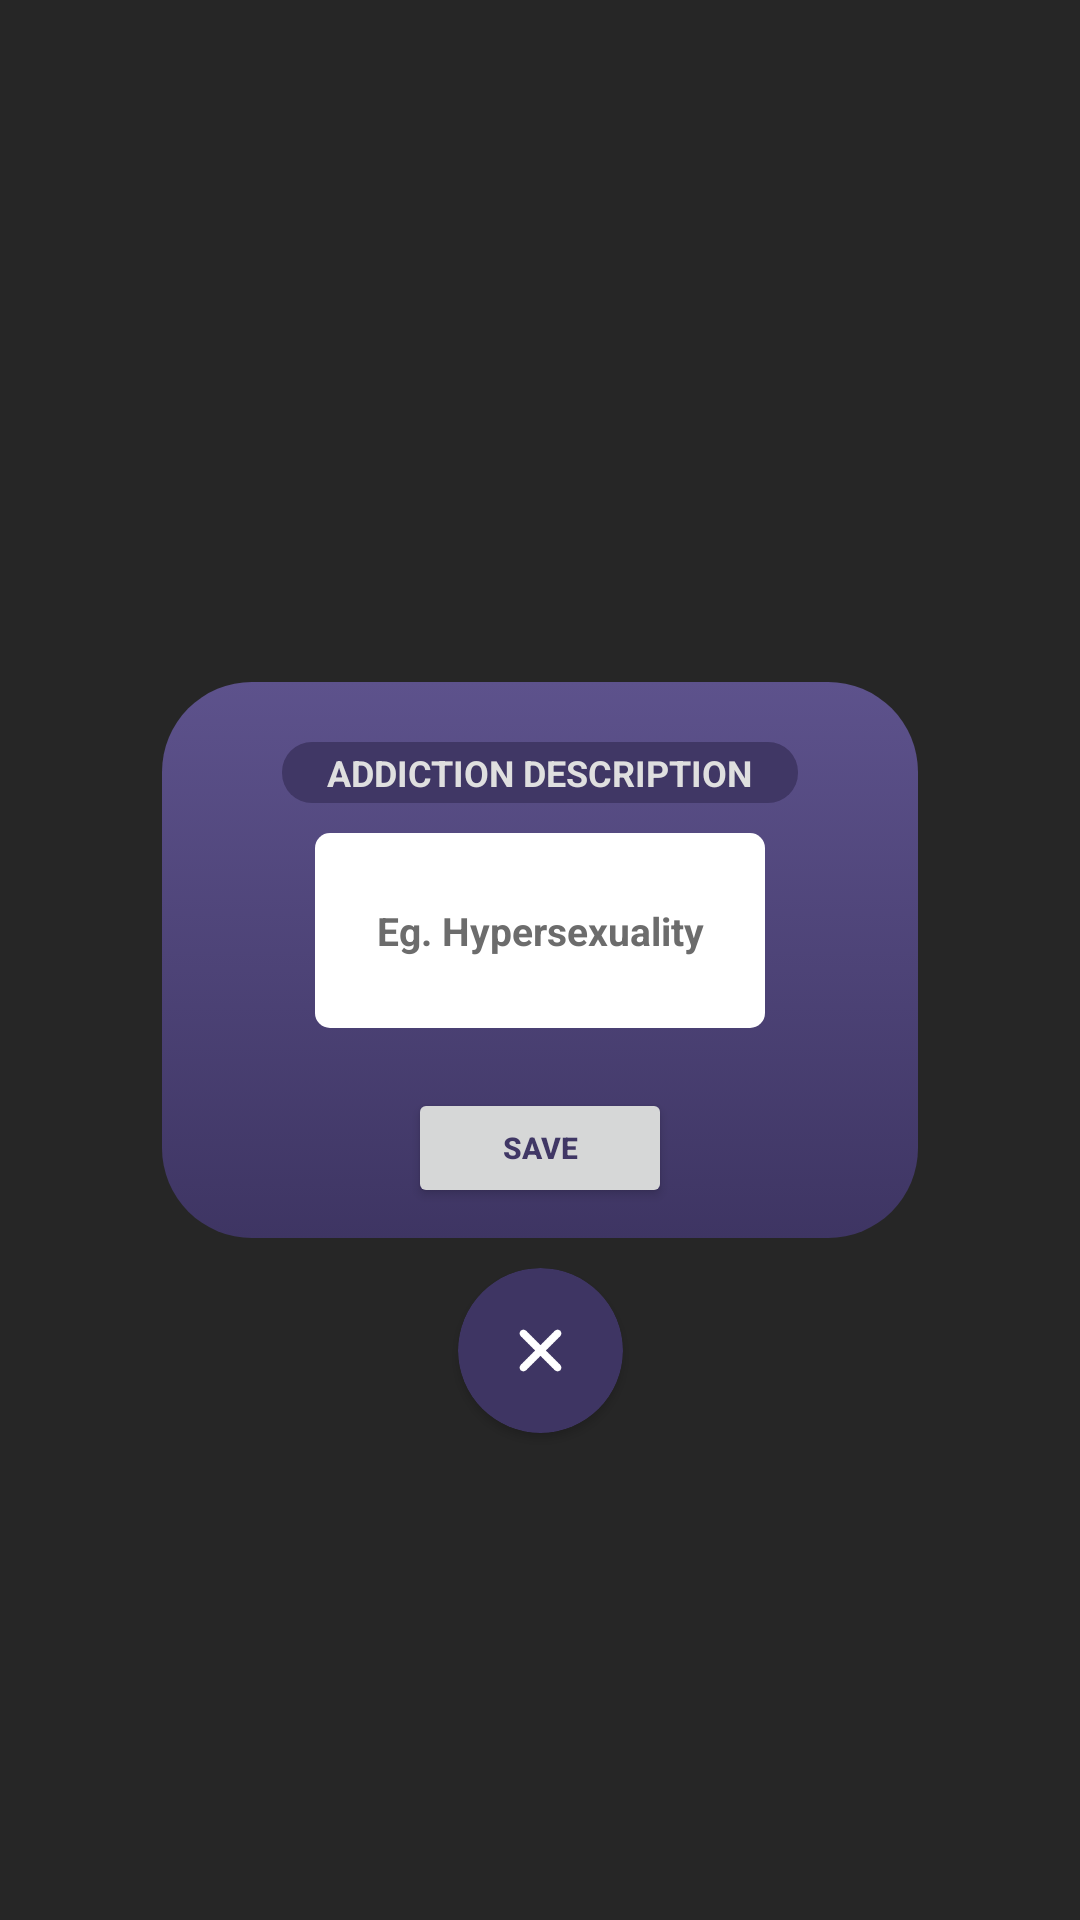

Icons on this 1080px x 1920px Android screen, each with the point to tap as (x,y):
cancel: (540,1350)
